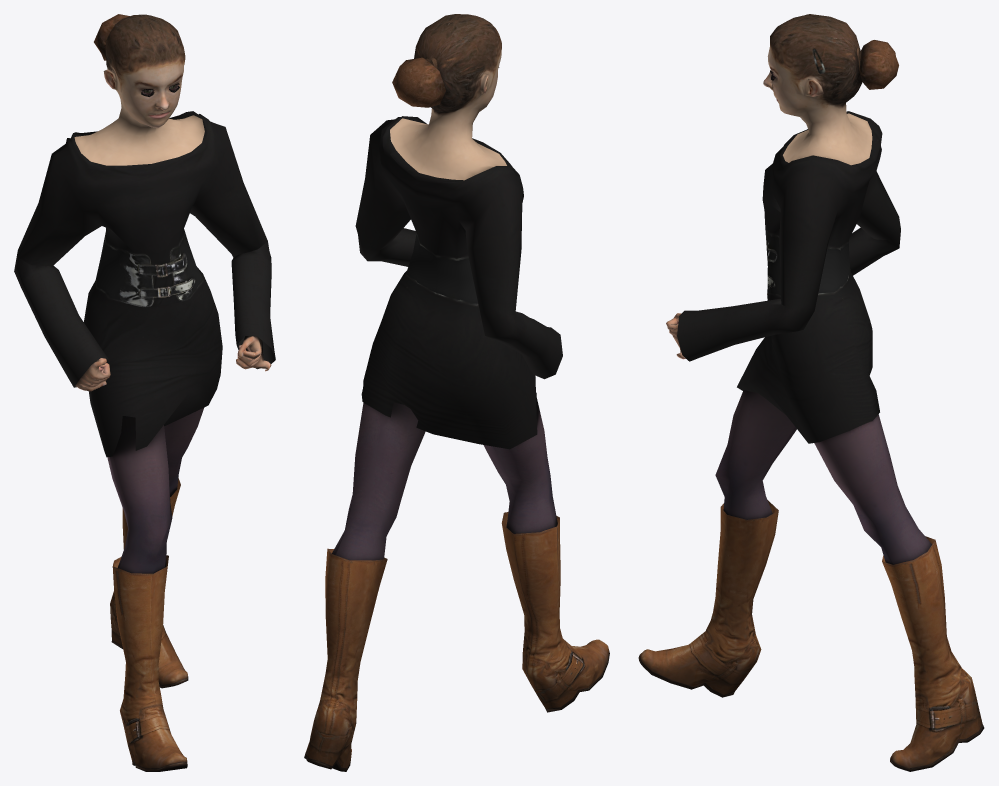
File: Ana_Model_000010.obj
3 views of the same model, side by side, from view 1: azimuth 30°, elevation 25°; view 2: azimuth 150°, elevation 25°; view 3: azimuth 270°, elevation 25° (orthographic).
Visible parts, largest first — view 1: Ana_Cube.004; view 2: Ana_Cube.004; view 3: Ana_Cube.004.
Part boxes in pixels (left/top/right/bottom): Ana_Cube.004: left=14, top=14, right=275, bottom=771; Ana_Cube.004: left=304, top=14, right=609, bottom=771; Ana_Cube.004: left=638, top=14, right=984, bottom=771.
Size of the model in its own units: 0.5828 by 1.94 by 0.8501.
1 material, 1 textured.
